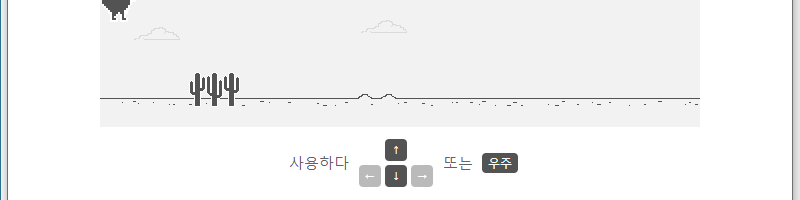dinosaur: (100, 1, 134, 20)
obstacle: (188, 71, 241, 108)
